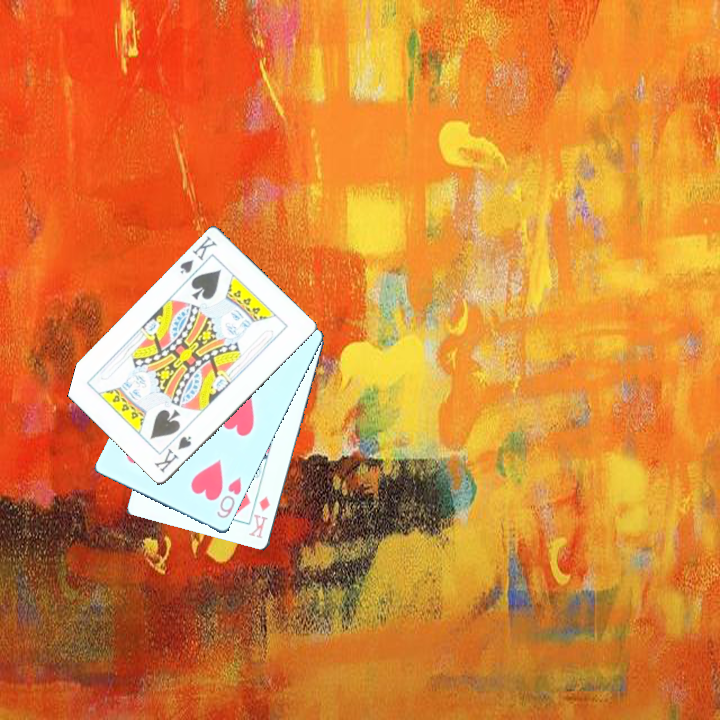6h: (213, 473, 244, 521)
Kd: (243, 484, 273, 541)
Ks: (176, 232, 220, 283), (150, 431, 194, 475)
